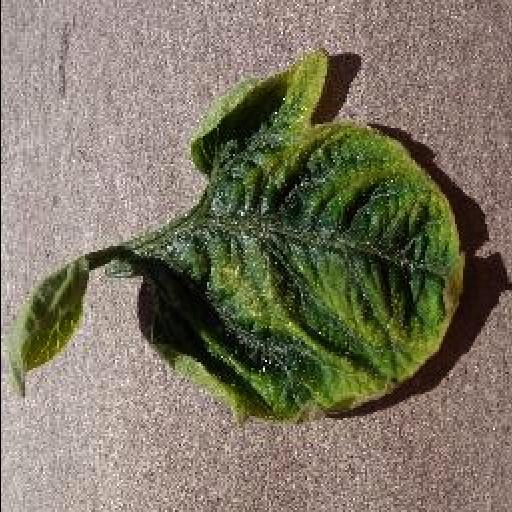disease_tomato: (136, 50, 466, 430)
